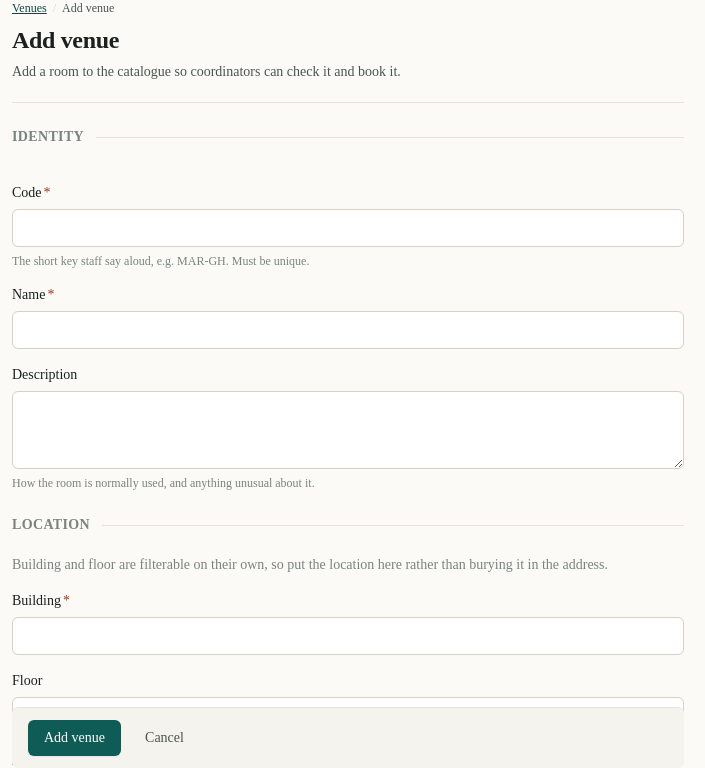
Test: Add venue › what it refuses before sending › [SPM-39][AC1] no opening time
This screenshot has width=705, height=768.
In the field labelled "Code*": (348, 228) [12, 209, 684, 247], type "HALL-A"
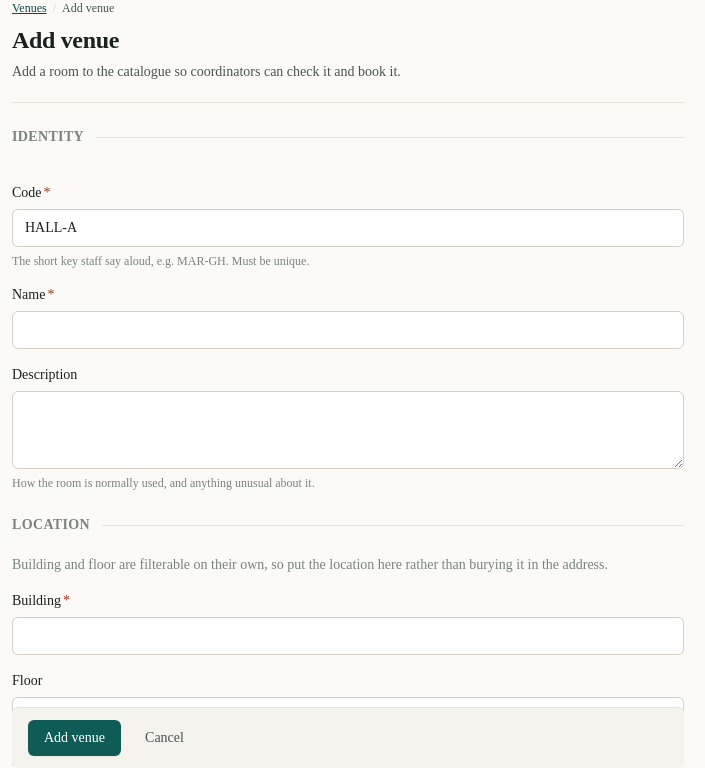
In the field labelled "Name*": (348, 330) [12, 311, 684, 349], type "Hall A"
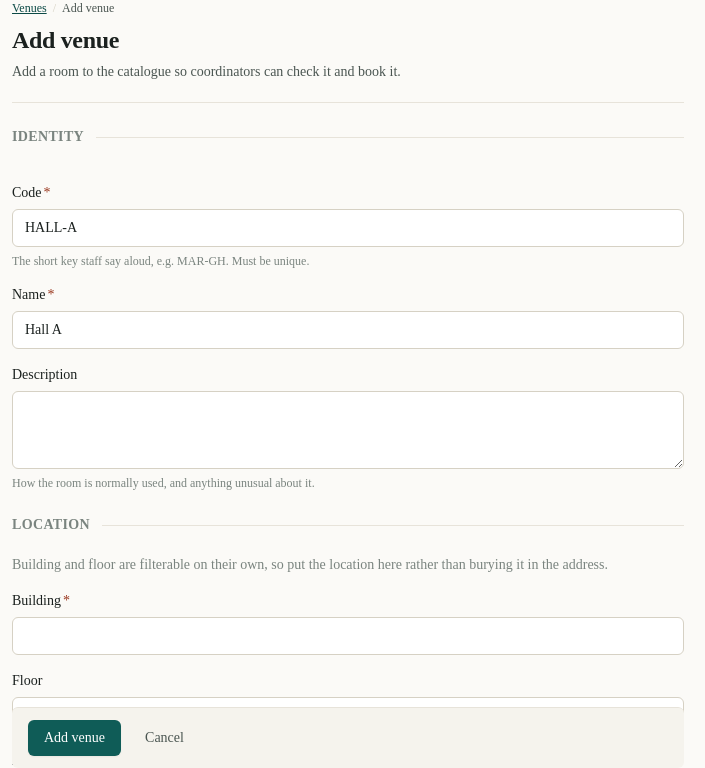
In the field labelled "Building*": (348, 636) [12, 617, 684, 655], type "Tower 1"
(page scrolled)
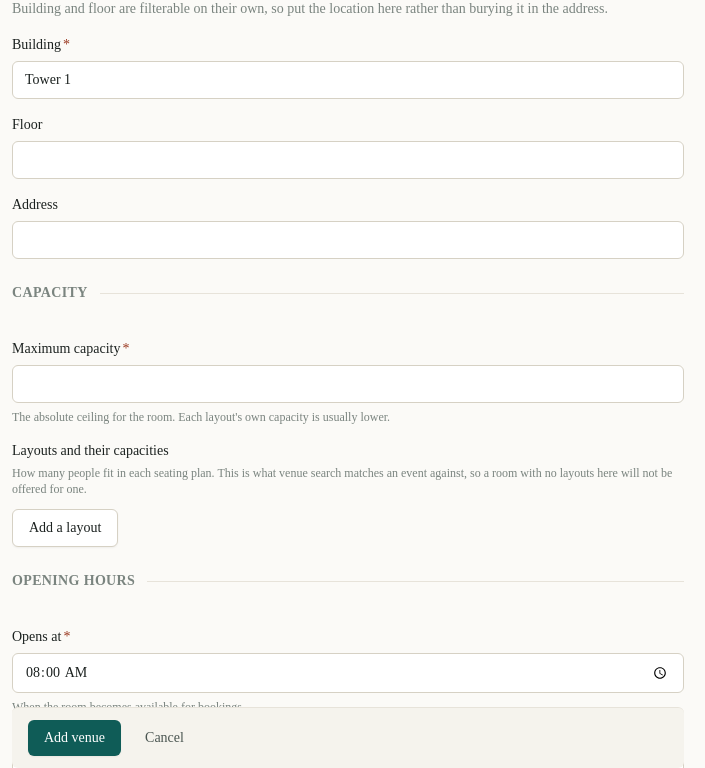
In the number field labelled "Maximum capacity*": (348, 384) [12, 365, 684, 403], type "300"
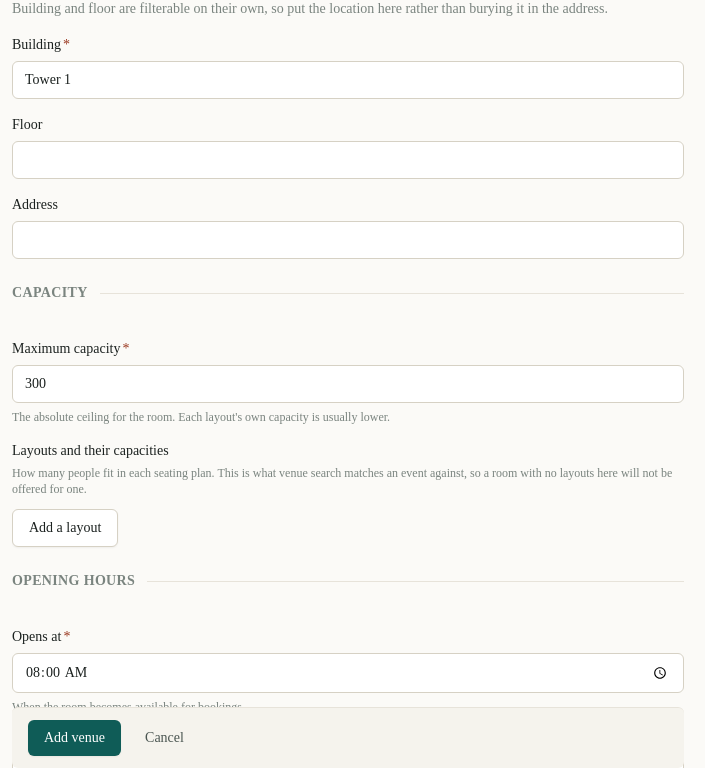
Clear the time field labelled "Opens at*": (348, 673) [12, 653, 684, 693]
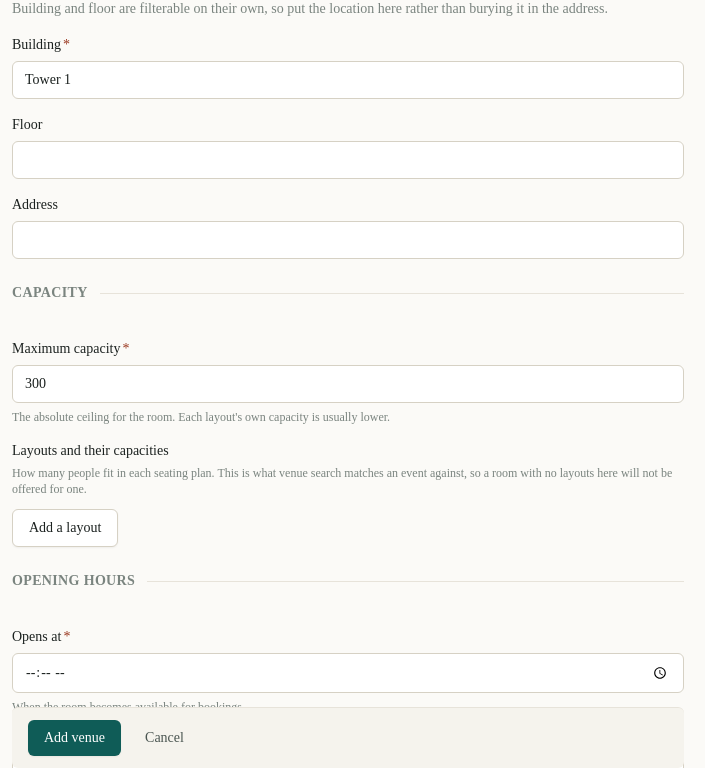
Click the button "Add venue": (74, 738) [28, 720, 121, 756]
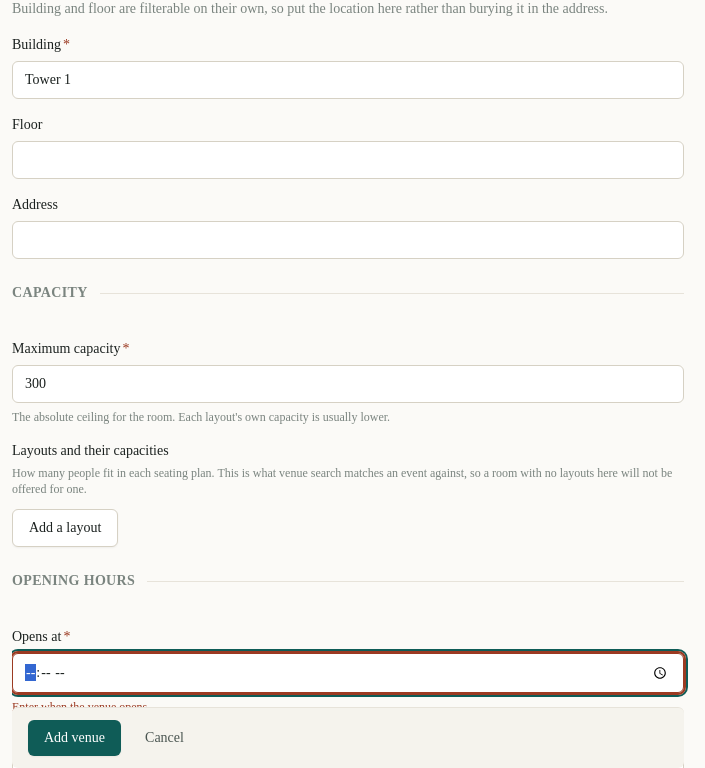
Check: the text "Enter when the venue opens." is shown, box [12, 700, 150, 714]
